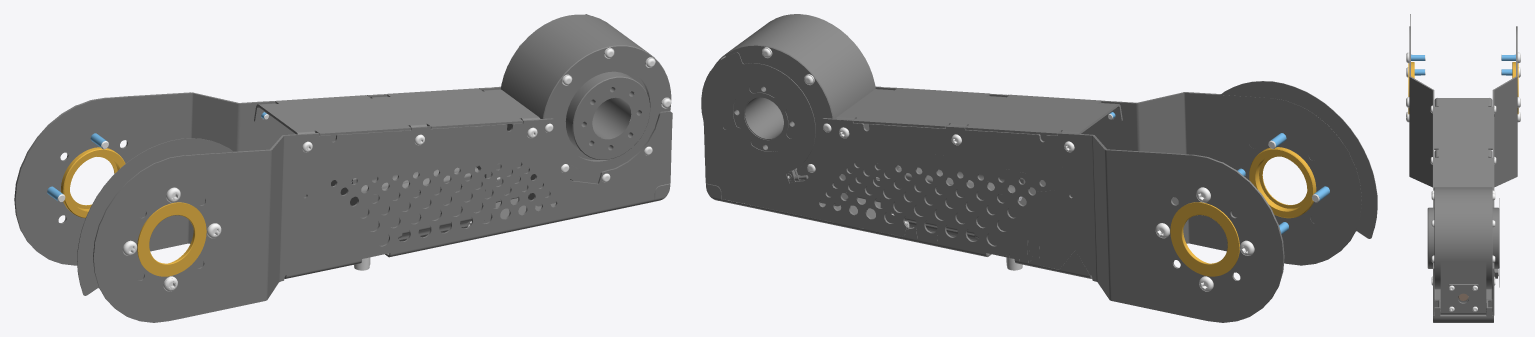
3 views of the same model, side by side, from view 1: azimuth 30°, elevation 25°; view 2: azimuth 150°, elevation 25°; view 3: azimuth 270°, elevation 25° (orthographic). The views are drawn at different scales.
Visible parts, largest first — view 1: J2-ORI.SLDPRT; view 2: J2-ORI.SLDPRT; view 3: J2-ORI.SLDPRT.
Part boxes in pixels (x1,y1,x2,y2): J2-ORI.SLDPRT: [14, 14, 672, 322]; J2-ORI.SLDPRT: [701, 14, 1377, 322]; J2-ORI.SLDPRT: [1406, 14, 1520, 322].
Bounding box in the file's own units: 0.4747 × 0.1495 × 0.1126.
